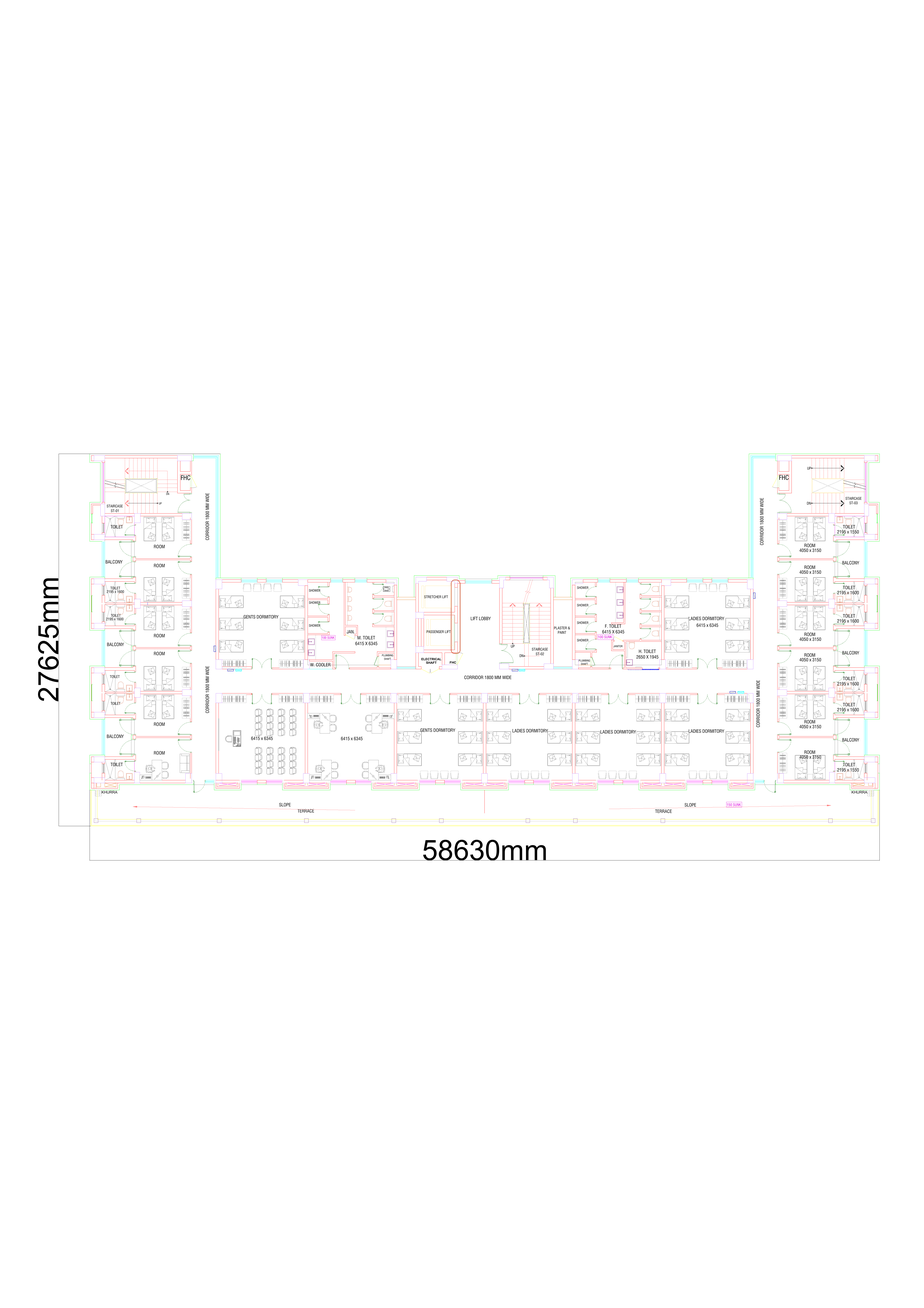door: (178, 493, 192, 514), (499, 643, 513, 664), (777, 493, 791, 513), (119, 739, 136, 755), (119, 719, 136, 735), (119, 650, 136, 666), (119, 630, 136, 646), (119, 561, 136, 577), (833, 719, 850, 735), (833, 739, 850, 755), (833, 650, 850, 666), (833, 630, 850, 646), (833, 561, 850, 577), (833, 541, 850, 557), (119, 541, 136, 557), (697, 693, 718, 705), (341, 693, 361, 705), (697, 658, 718, 669), (335, 654, 350, 669), (252, 693, 272, 704), (430, 693, 450, 704), (519, 693, 539, 704), (608, 693, 628, 704), (252, 658, 272, 669), (777, 561, 792, 575), (777, 632, 792, 646), (609, 654, 623, 669), (178, 561, 192, 575), (178, 650, 192, 664), (178, 739, 192, 753), (777, 721, 791, 735), (777, 650, 791, 664), (178, 544, 192, 557), (178, 633, 192, 646), (178, 722, 192, 735), (778, 739, 791, 753), (777, 544, 791, 557), (193, 780, 206, 793), (764, 780, 776, 793), (124, 582, 136, 594), (833, 671, 845, 683), (124, 525, 136, 536), (833, 703, 845, 714), (833, 614, 845, 625), (833, 583, 845, 594), (833, 525, 845, 536), (585, 639, 597, 650), (585, 604, 597, 615), (585, 586, 597, 597), (125, 703, 136, 714), (125, 672, 136, 683), (125, 614, 136, 625), (640, 628, 651, 639), (640, 613, 651, 624), (640, 598, 651, 609), (373, 613, 384, 624), (318, 604, 329, 615), (318, 586, 329, 597), (585, 622, 597, 632), (125, 761, 136, 771), (640, 584, 651, 594), (373, 599, 384, 609), (373, 584, 384, 594), (318, 622, 329, 632)
